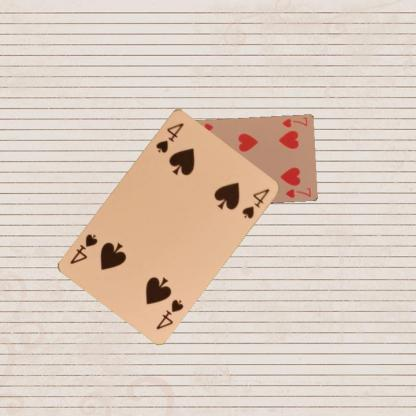4s: (153, 120, 186, 154), (153, 296, 185, 330)
7h: (280, 115, 309, 129)
